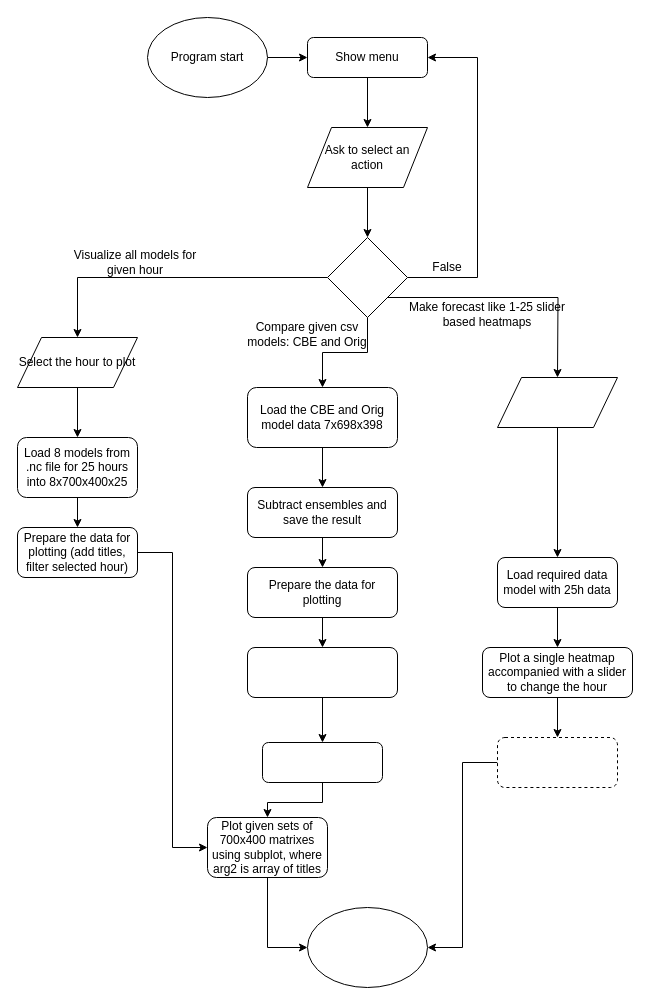
Some shapes in this 650 by 1005 pixel diagram are drawn without their labels. Each missing label, with the box of its shape:
Action valid: (326, 236, 408, 318)
Advanced: add a button to autoplay the hours: (496, 736, 618, 788)
Change plotting color schema: (262, 742, 382, 782)
Pass bias ensemble through sharpener() function: (246, 646, 398, 698)
Program end: (306, 906, 428, 988)
Select model to plot: (496, 376, 618, 428)
